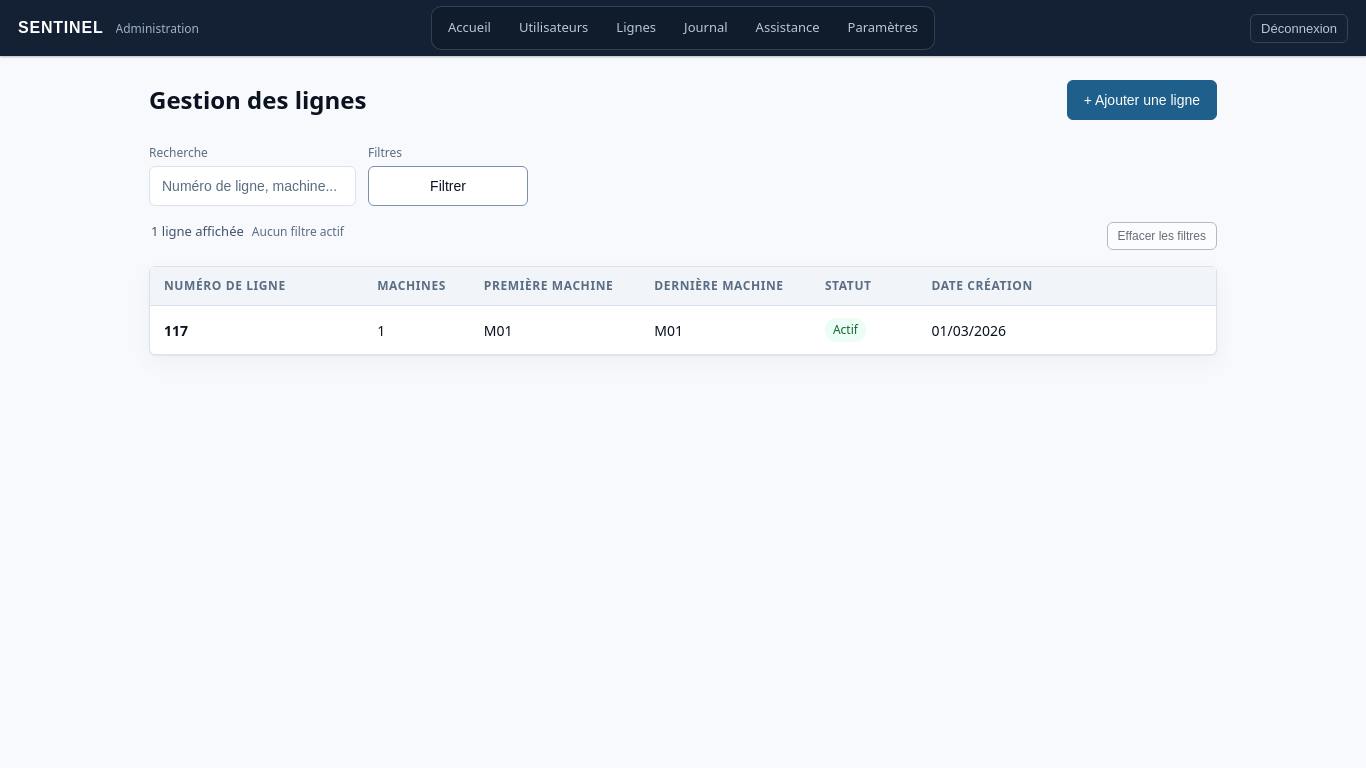
Test case: LinesPage — noms accessibles des filtres › expose le nom accessible « Statut » dans la modale de filtres
Check: the text "117" is shown, box [164,320,188,340]
Step 1. Click the button "Filtrer" → (448, 186), box [368,166,528,206]
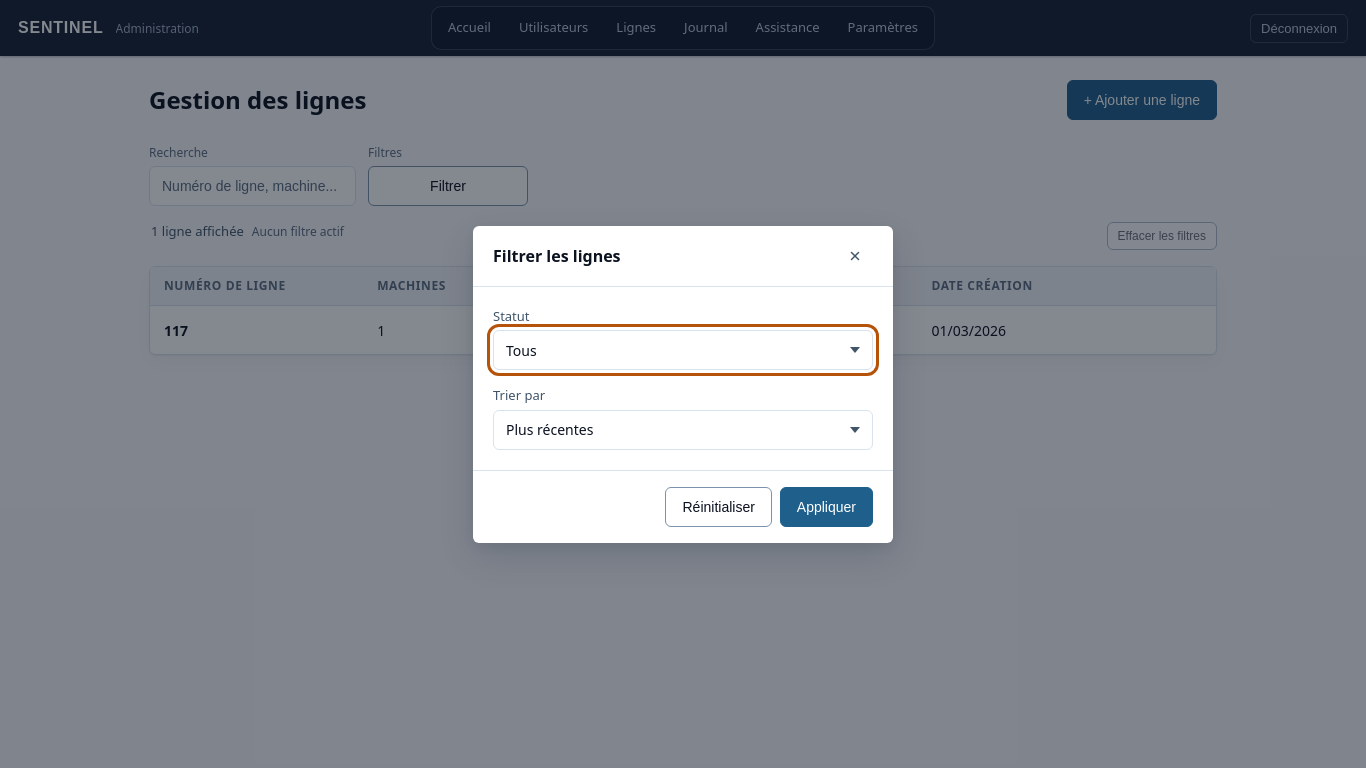
Check: the dropdown named "Statut" is shown, box [493,330,873,370]
